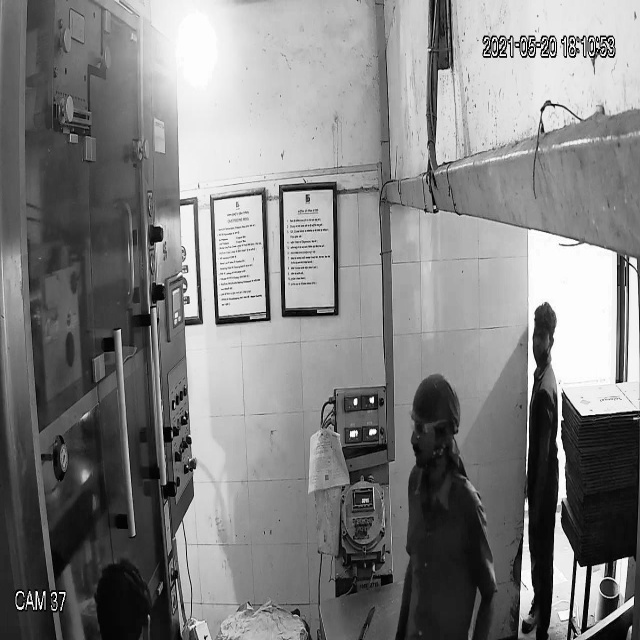Gafas: (406, 410, 451, 438)
Sin_gafas: (528, 326, 553, 348)
